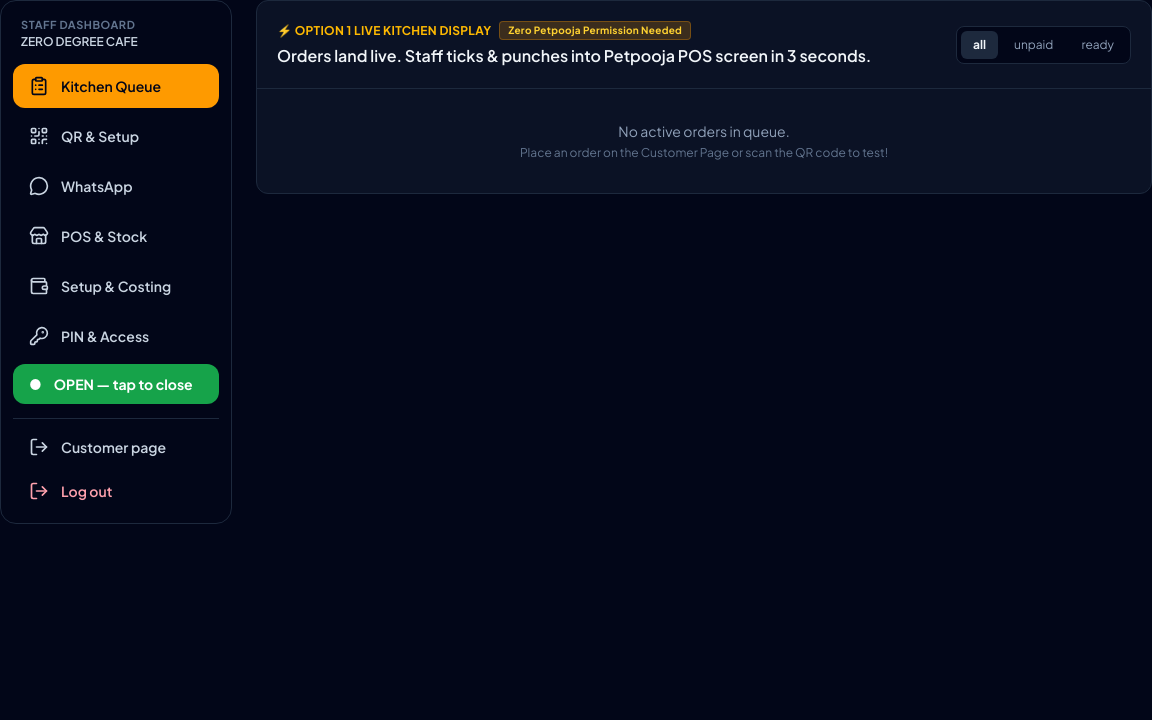
Test: StaffDashboard › switches sections from the rail
Click the button "QR & Setup". click: x=116, y=136
box: [13,114,219,158]
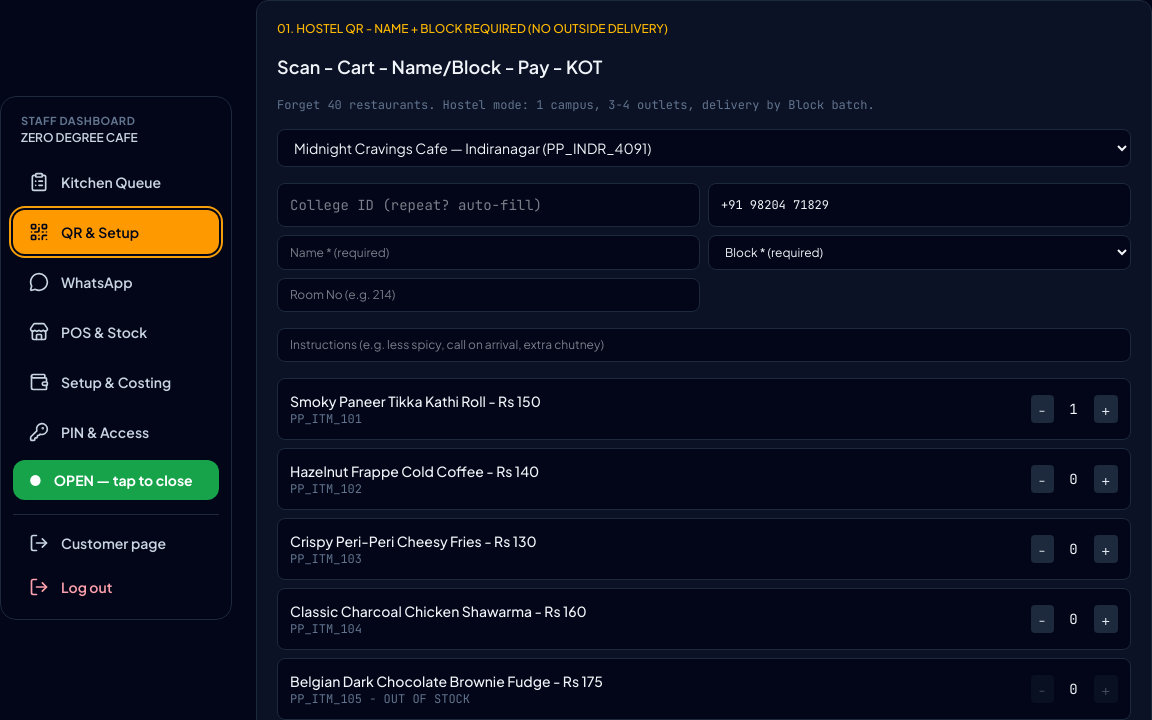
Now the text "01. HOSTEL QR - NAME + BLOCK REQUIRED (NO OUTSIDE DELIVERY)" is shown, box [277,21,668,36]
